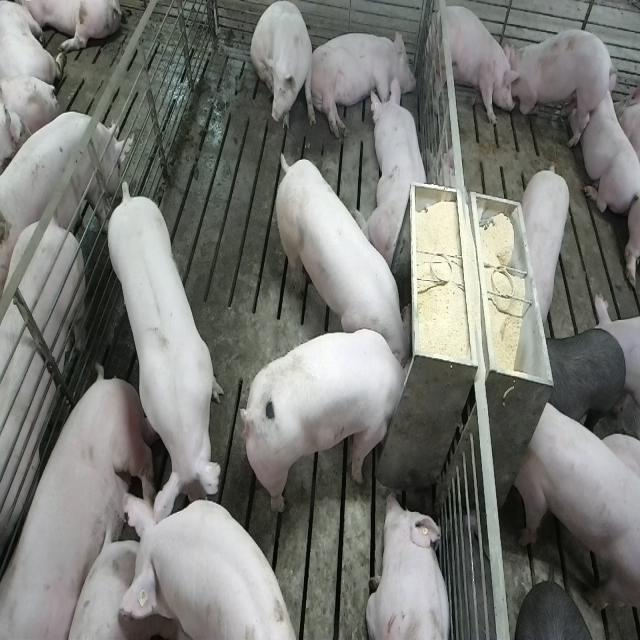Feeding: (246, 327, 417, 517), (272, 147, 411, 364)
Lateral_lying: (3, 366, 159, 640), (308, 27, 417, 140)
Sitting: (251, 3, 316, 140)
Standing: (105, 178, 226, 526), (0, 210, 88, 616), (114, 493, 296, 640), (515, 394, 638, 610), (0, 105, 128, 278), (508, 27, 615, 148), (430, 1, 518, 130), (544, 326, 628, 436), (521, 161, 573, 328)
Sternal_lying: (359, 76, 431, 264), (366, 490, 453, 640), (580, 76, 638, 216)
